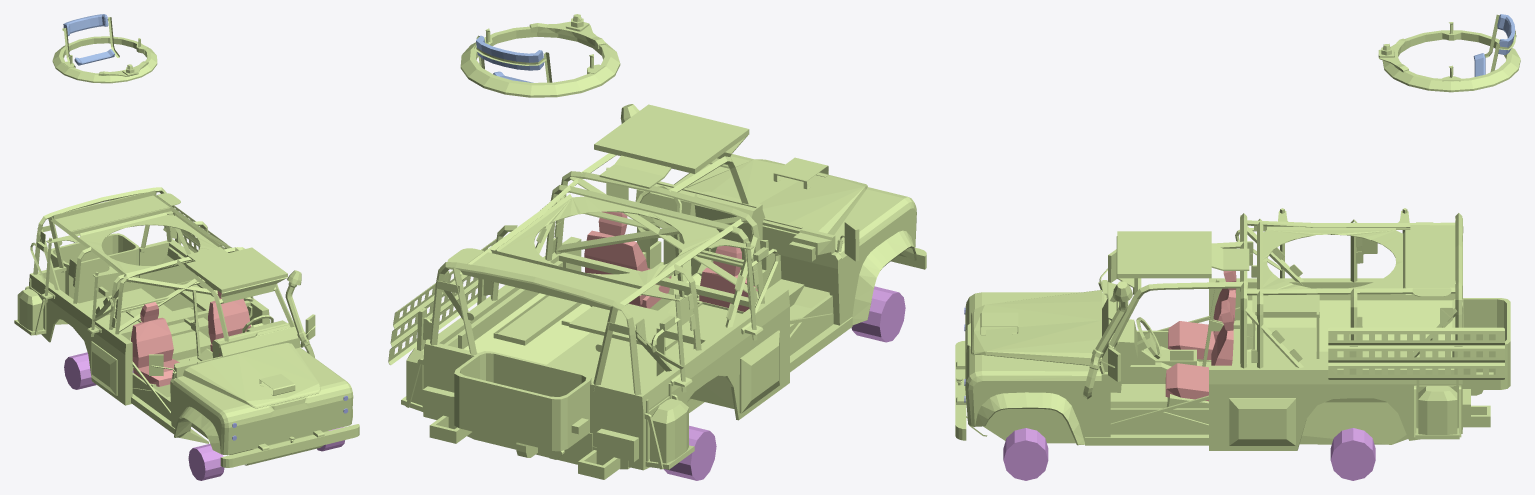
Rendered from land-wheeled-whl-08-default--whl-08-ringturret--wheels-destroyed.glb.
The picture shows the model from 3 angles, left to right: view 1: azimuth 30°, elevation 25°; view 2: azimuth 150°, elevation 25°; view 3: azimuth 270°, elevation 25°; orthographic projection. The views are drawn at different scales.
Parts seen in each view (by area): view 1: CC_WHL_08_Body, CC_WHL_08_TurretHousing, CC_WHL_08_Roof_Turret, CC_WHL_08_Wheel_FR_Destroyed_1, CC_WHL_08_Wheel_FR_Destroyed_3; view 2: CC_WHL_08_Body, CC_WHL_08_TurretHousing, CC_WHL_08_Roof_Turret, CC_WHL_08_Wheel_FR_Destroyed_1, CC_WHL_08_Wheel_FR_Destroyed_3; view 3: CC_WHL_08_Body, CC_WHL_08_TurretHousing, CC_WHL_08_Roof_Turret, CC_WHL_08_Wheel_FR_Destroyed_0, CC_WHL_08_Wheel_FR_Destroyed_2.
Boxes of the visible parts, bbox=[...] form: CC_WHL_08_Body: bbox=[14, 187, 359, 467]; CC_WHL_08_TurretHousing: bbox=[52, 14, 157, 83]; CC_WHL_08_Roof_Turret: bbox=[79, 212, 225, 275]; CC_WHL_08_Wheel_FR_Destroyed_1: bbox=[188, 444, 224, 480]; CC_WHL_08_Wheel_FR_Destroyed_3: bbox=[64, 352, 96, 389]; CC_WHL_08_Body: bbox=[388, 104, 926, 479]; CC_WHL_08_TurretHousing: bbox=[460, 14, 620, 97]; CC_WHL_08_Roof_Turret: bbox=[496, 194, 719, 286]; CC_WHL_08_Wheel_FR_Destroyed_1: bbox=[851, 286, 905, 342]; CC_WHL_08_Wheel_FR_Destroyed_3: bbox=[663, 425, 716, 480]; CC_WHL_08_Body: bbox=[955, 208, 1510, 450]; CC_WHL_08_TurretHousing: bbox=[1378, 14, 1520, 92]; CC_WHL_08_Roof_Turret: bbox=[1263, 226, 1405, 289]; CC_WHL_08_Wheel_FR_Destroyed_0: bbox=[1003, 428, 1048, 480]; CC_WHL_08_Wheel_FR_Destroyed_2: bbox=[1330, 428, 1375, 480].
Bounding box in the file's own units: 2.39 × 4.03 × 5.05.
